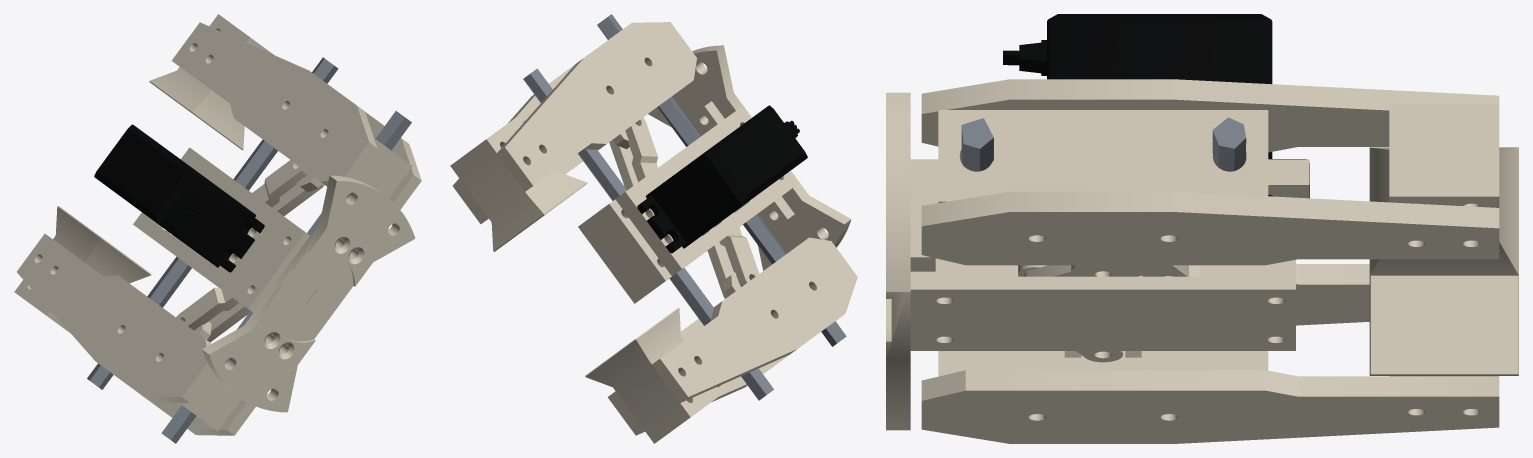
File: stock_gripper.obj
3 renders of one model, left to right at view 1: azimuth 30°, elevation 25°; view 2: azimuth 150°, elevation 25°; view 3: azimuth 270°, elevation 25°, orthographic. The views are drawn at different scales.
Parts seen in each view (by area): view 1: stock_gripper_printed, stock_gripper_motor, stock_gripper_metal; view 2: stock_gripper_printed, stock_gripper_motor, stock_gripper_metal; view 3: stock_gripper_printed, stock_gripper_motor, stock_gripper_metal.
Boxes of the visible parts, x1=… form: stock_gripper_printed: x1=14, y1=14, x2=421, y2=435; stock_gripper_motor: x1=94, y1=124, x2=264, y2=272; stock_gripper_metal: x1=87, y1=57, x2=411, y2=443; stock_gripper_printed: x1=450, y1=22, x2=857, y2=443; stock_gripper_motor: x1=637, y1=105, x2=807, y2=253; stock_gripper_metal: x1=523, y1=14, x2=846, y2=400; stock_gripper_printed: x1=886, y1=79, x2=1518, y2=443; stock_gripper_motor: x1=1003, y1=14, x2=1309, y2=197; stock_gripper_metal: x1=961, y1=117, x2=1246, y2=171.
Bounding box in the file's own units: 0.0963 × 0.1003 × 0.1151.
